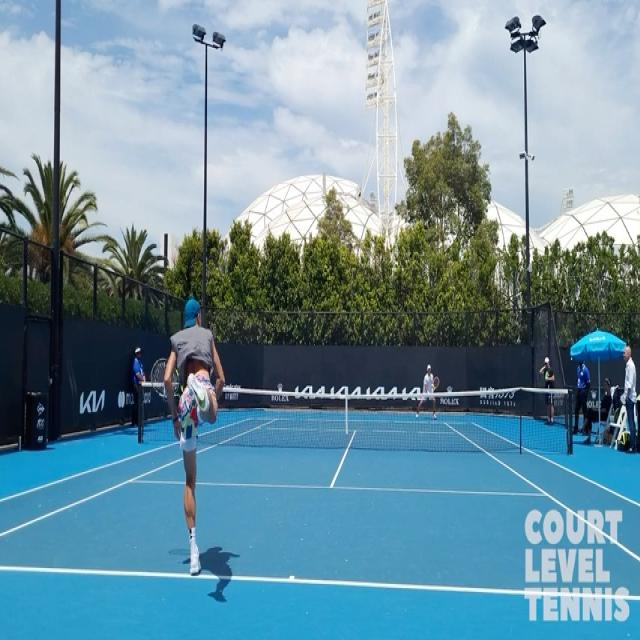serve_followthrough: (139, 260, 257, 574)
